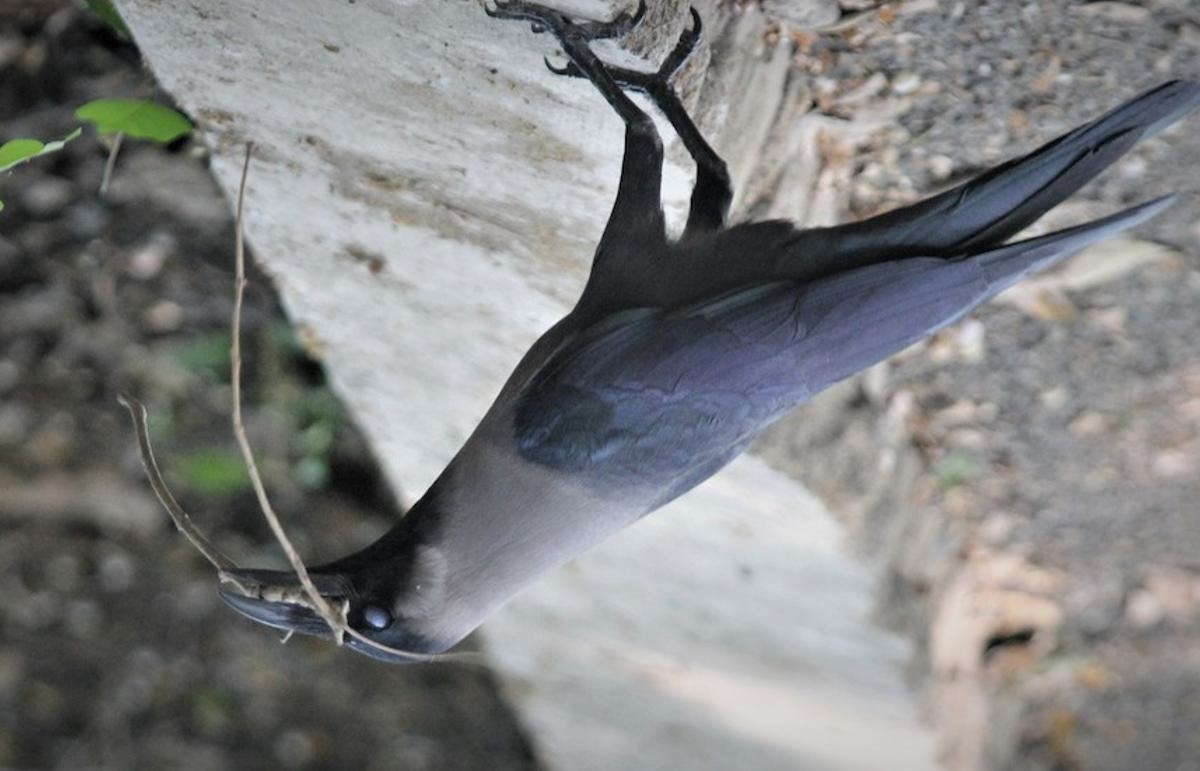crow: (215, 1, 1182, 673)
